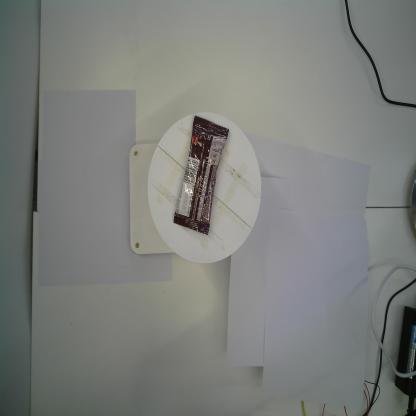Chocolate: (172, 115, 230, 237)
